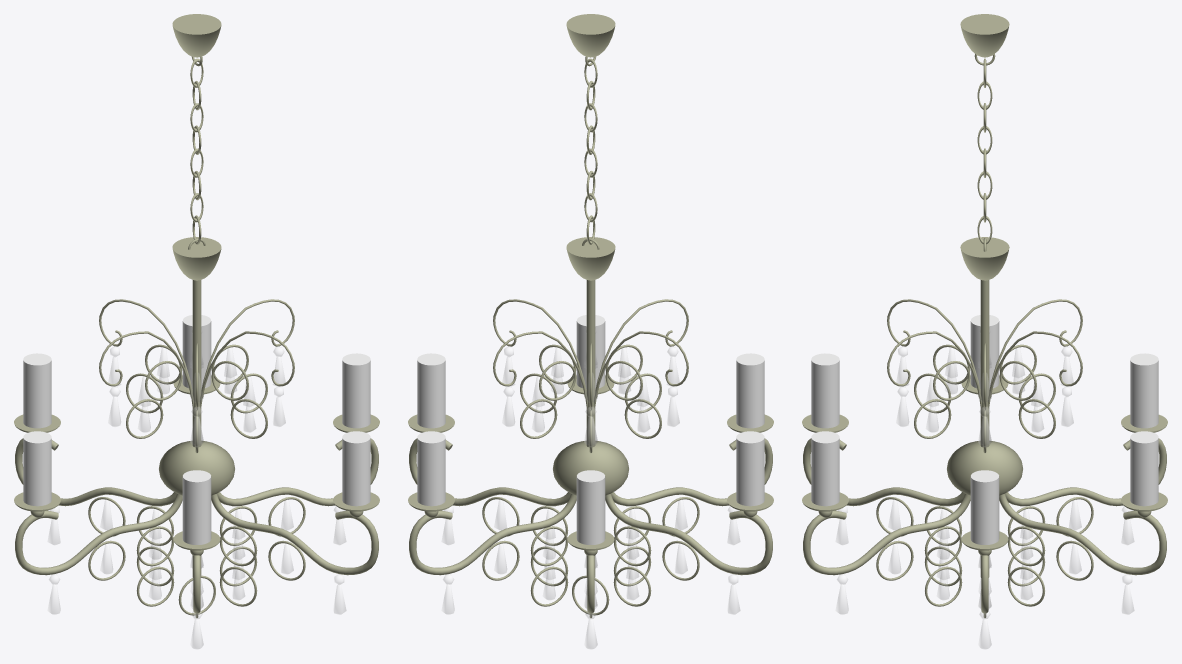
The picture shows the model from 3 angles, left to right: view 1: azimuth 30°, elevation 25°; view 2: azimuth 150°, elevation 25°; view 3: azimuth 270°, elevation 25°; orthographic projection.
Visible parts, largest first — view 1: 088894c7fc28ed0e91a9c8eb44ca8df68cc217e6 > > root > (×3); view 2: 088894c7fc28ed0e91a9c8eb44ca8df68cc217e6 > > root > (×3); view 3: 088894c7fc28ed0e91a9c8eb44ca8df68cc217e6 > > root > (×3).
Part boxes in pixels (x1,y1,x2,y2): 088894c7fc28ed0e91a9c8eb44ca8df68cc217e6 > > root > (×3): (14,14,379,649); 088894c7fc28ed0e91a9c8eb44ca8df68cc217e6 > > root > (×3): (408,14,773,649); 088894c7fc28ed0e91a9c8eb44ca8df68cc217e6 > > root > (×3): (802,14,1167,649).
Bounding box in the file's own units: 0.4647 × 0.7227 × 0.4058.
